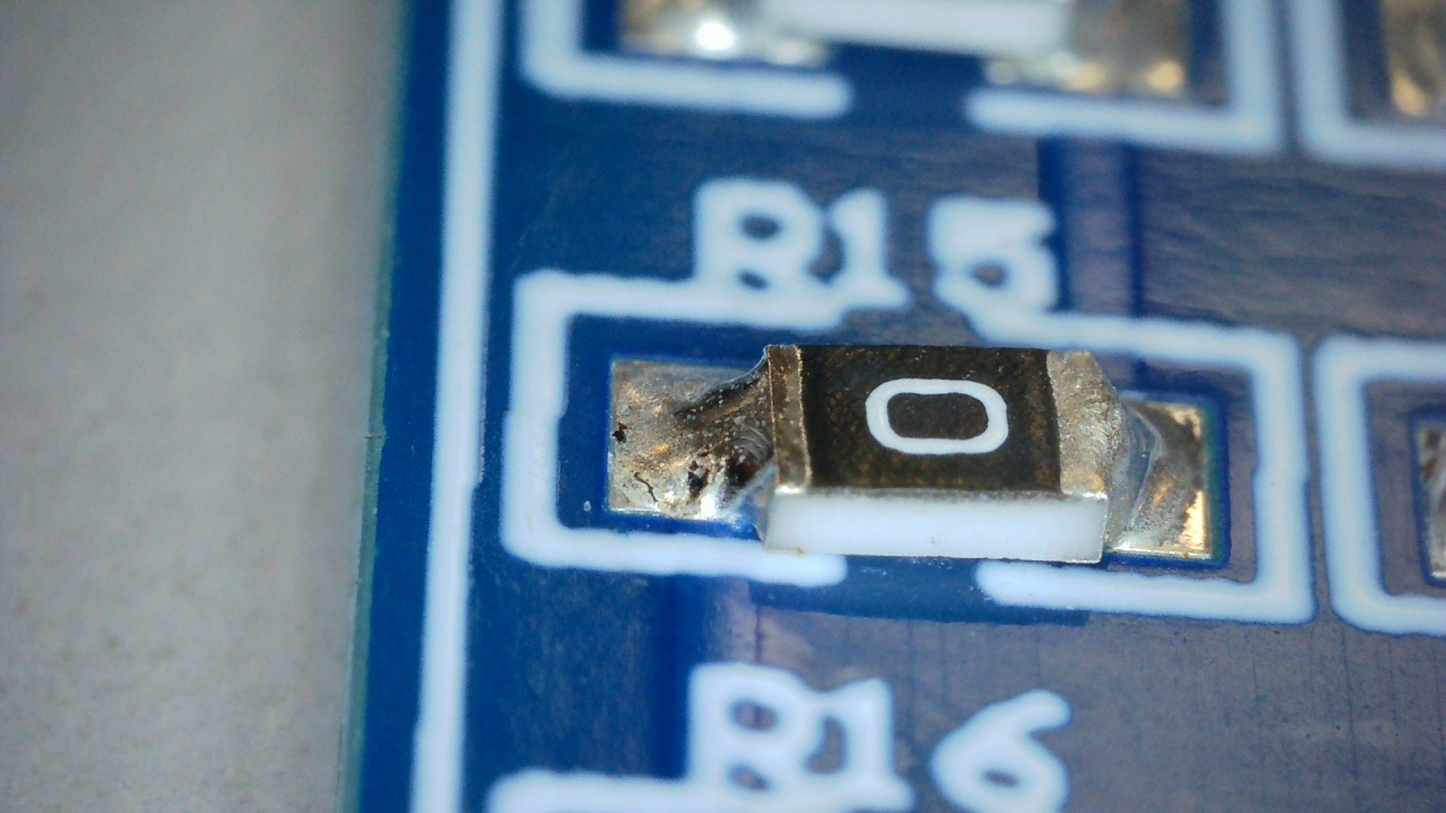NG: (614, 344, 806, 517), (1050, 350, 1186, 549)
